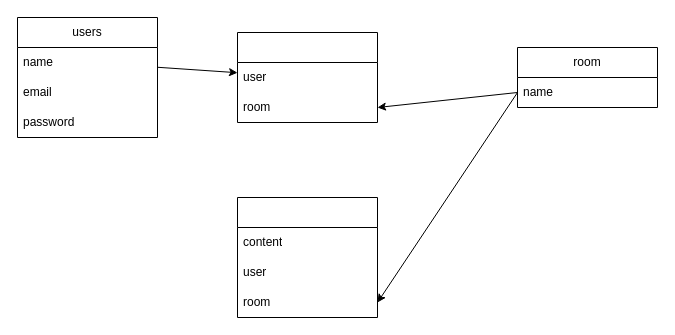
This 675x335 diagram has some shape labels left out. Here are the shapes that lost their labels. From the top down, the box of each, then its label:
(236, 32, 378, 122): room-user
(236, 196, 378, 318): messages
